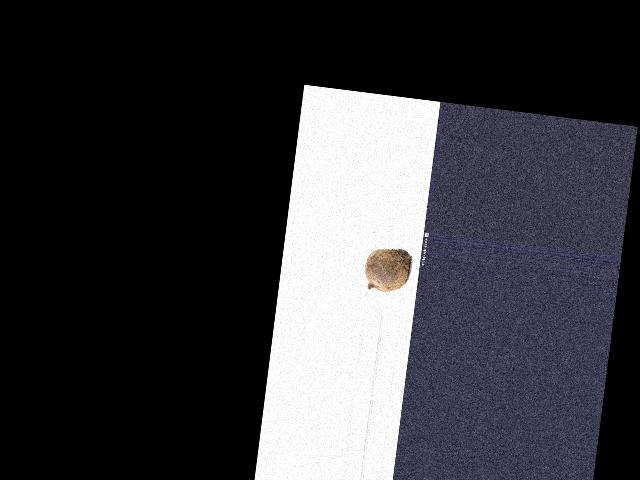beet: (362, 245, 412, 294)
